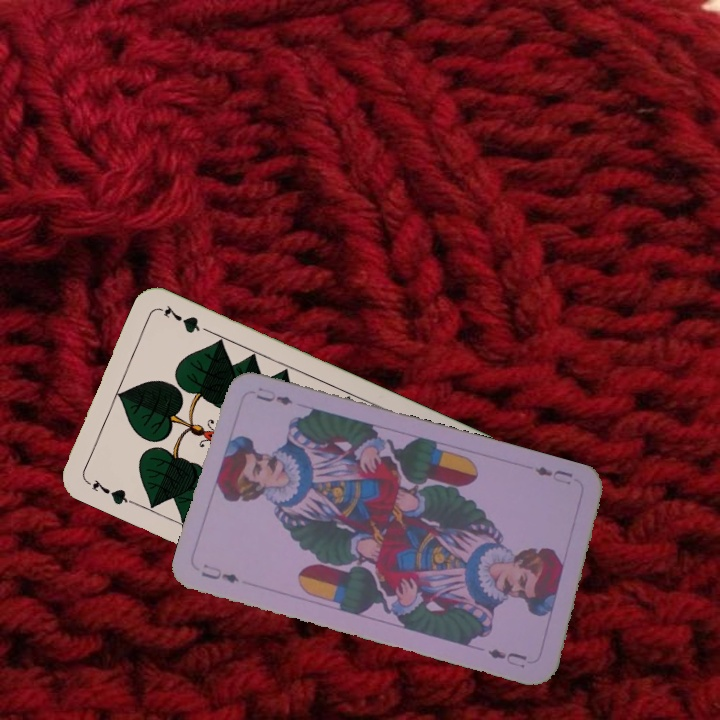EU: (196, 561, 242, 586), (530, 462, 575, 486)
G7: (80, 475, 136, 508)
